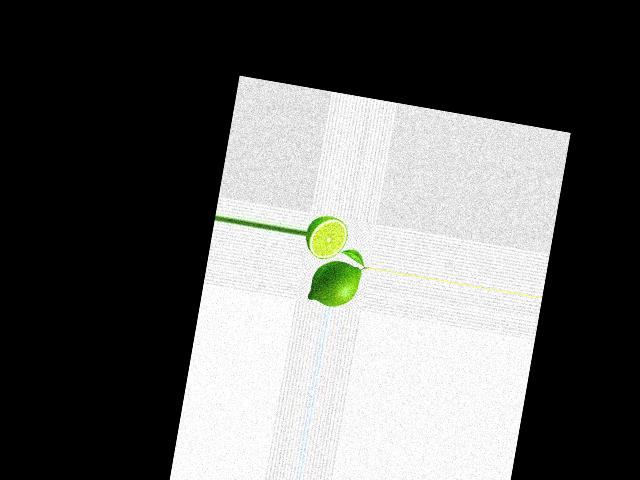lemon: (305, 254, 364, 309)
